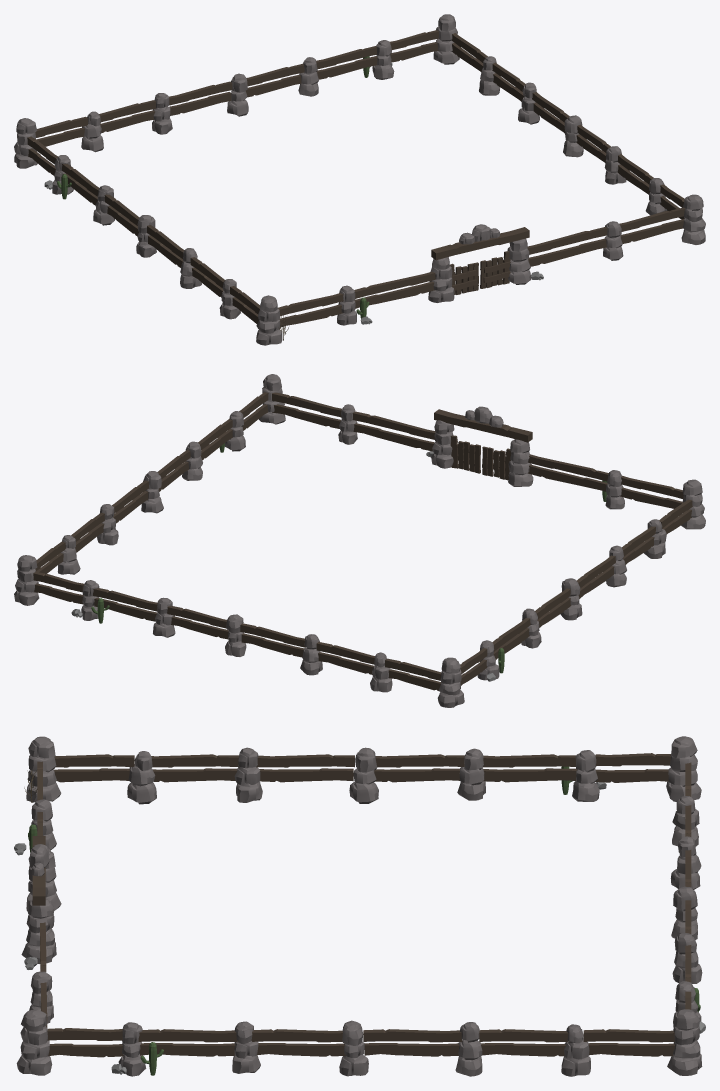
Rendered from fence.glb.
3 views of the same model, one above another, from view 1: azimuth 30°, elevation 25°; view 2: azimuth 150°, elevation 25°; view 3: azimuth 270°, elevation 25° (orthographic). The views are drawn at different scales.
Parts seen in each view (by area): view 1: Bench_2.027; view 2: Bench_2.027; view 3: Bench_2.027.
Part boxes in pixels (<box>): Bench_2.027: <box>14,14,705,345</box>; Bench_2.027: <box>14,374,705,707</box>; Bench_2.027: <box>14,736,705,1076</box>.
Bounding box in the file's own units: 63.94 × 9.25 × 64.54.
